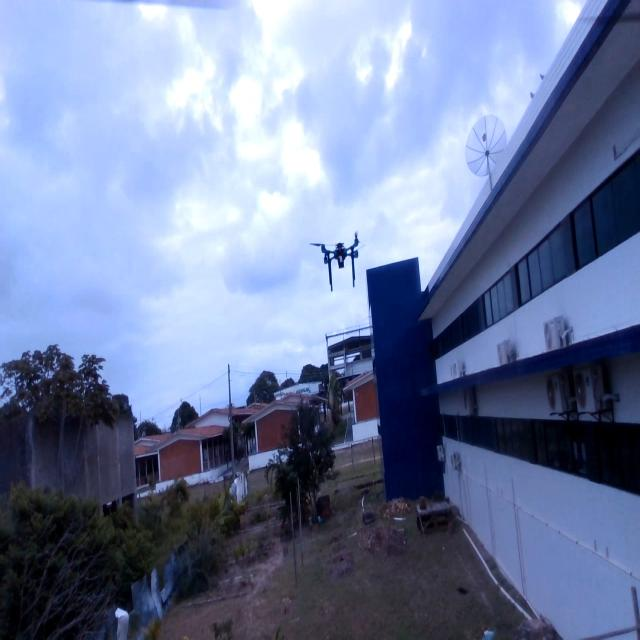-uav-: (307, 220, 373, 296)
